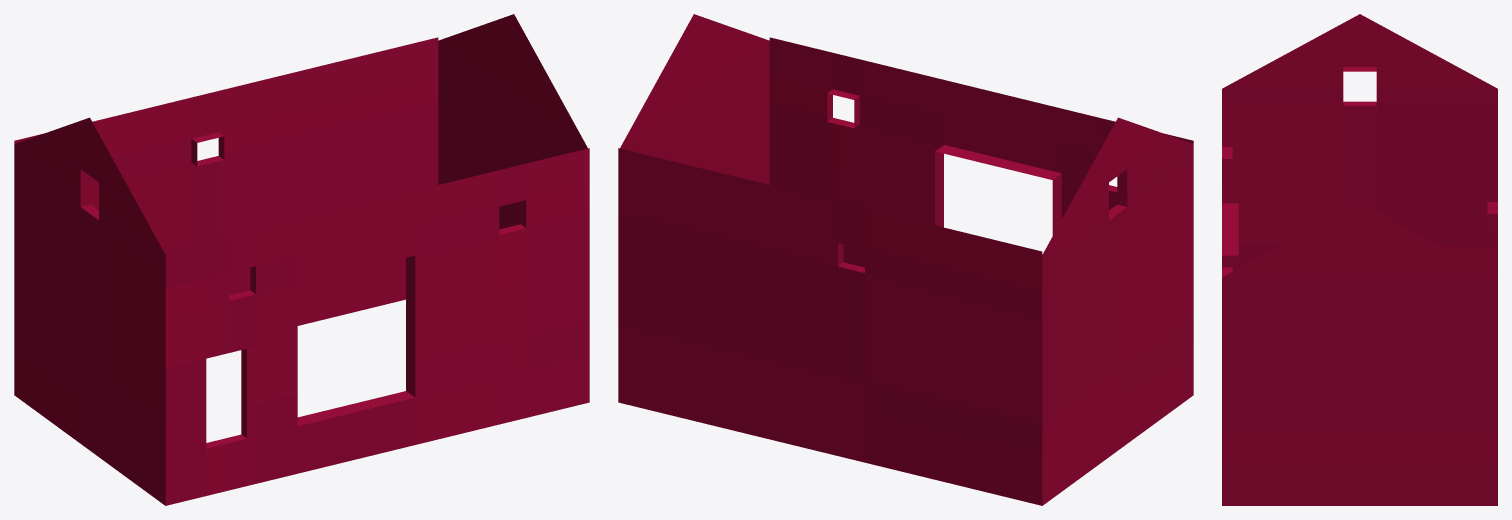
Rendered from SM_Bld_236_Masonry.glb.
3 renders of one model, left to right at view 1: azimuth 30°, elevation 25°; view 2: azimuth 150°, elevation 25°; view 3: azimuth 270°, elevation 25°, orthographic. The views are drawn at different scales.
Parts seen in each view (by area): view 1: SM_Bld_236_Masonry; view 2: SM_Bld_236_Masonry; view 3: SM_Bld_236_Masonry.
Boxes of the visible parts, box(x1,y1,x2,y2) form: SM_Bld_236_Masonry: box(14, 14, 589, 505); SM_Bld_236_Masonry: box(618, 14, 1193, 505); SM_Bld_236_Masonry: box(1222, 14, 1497, 505).
Bounding box in the file's own units: 9.37 × 7.03 × 5.79.
